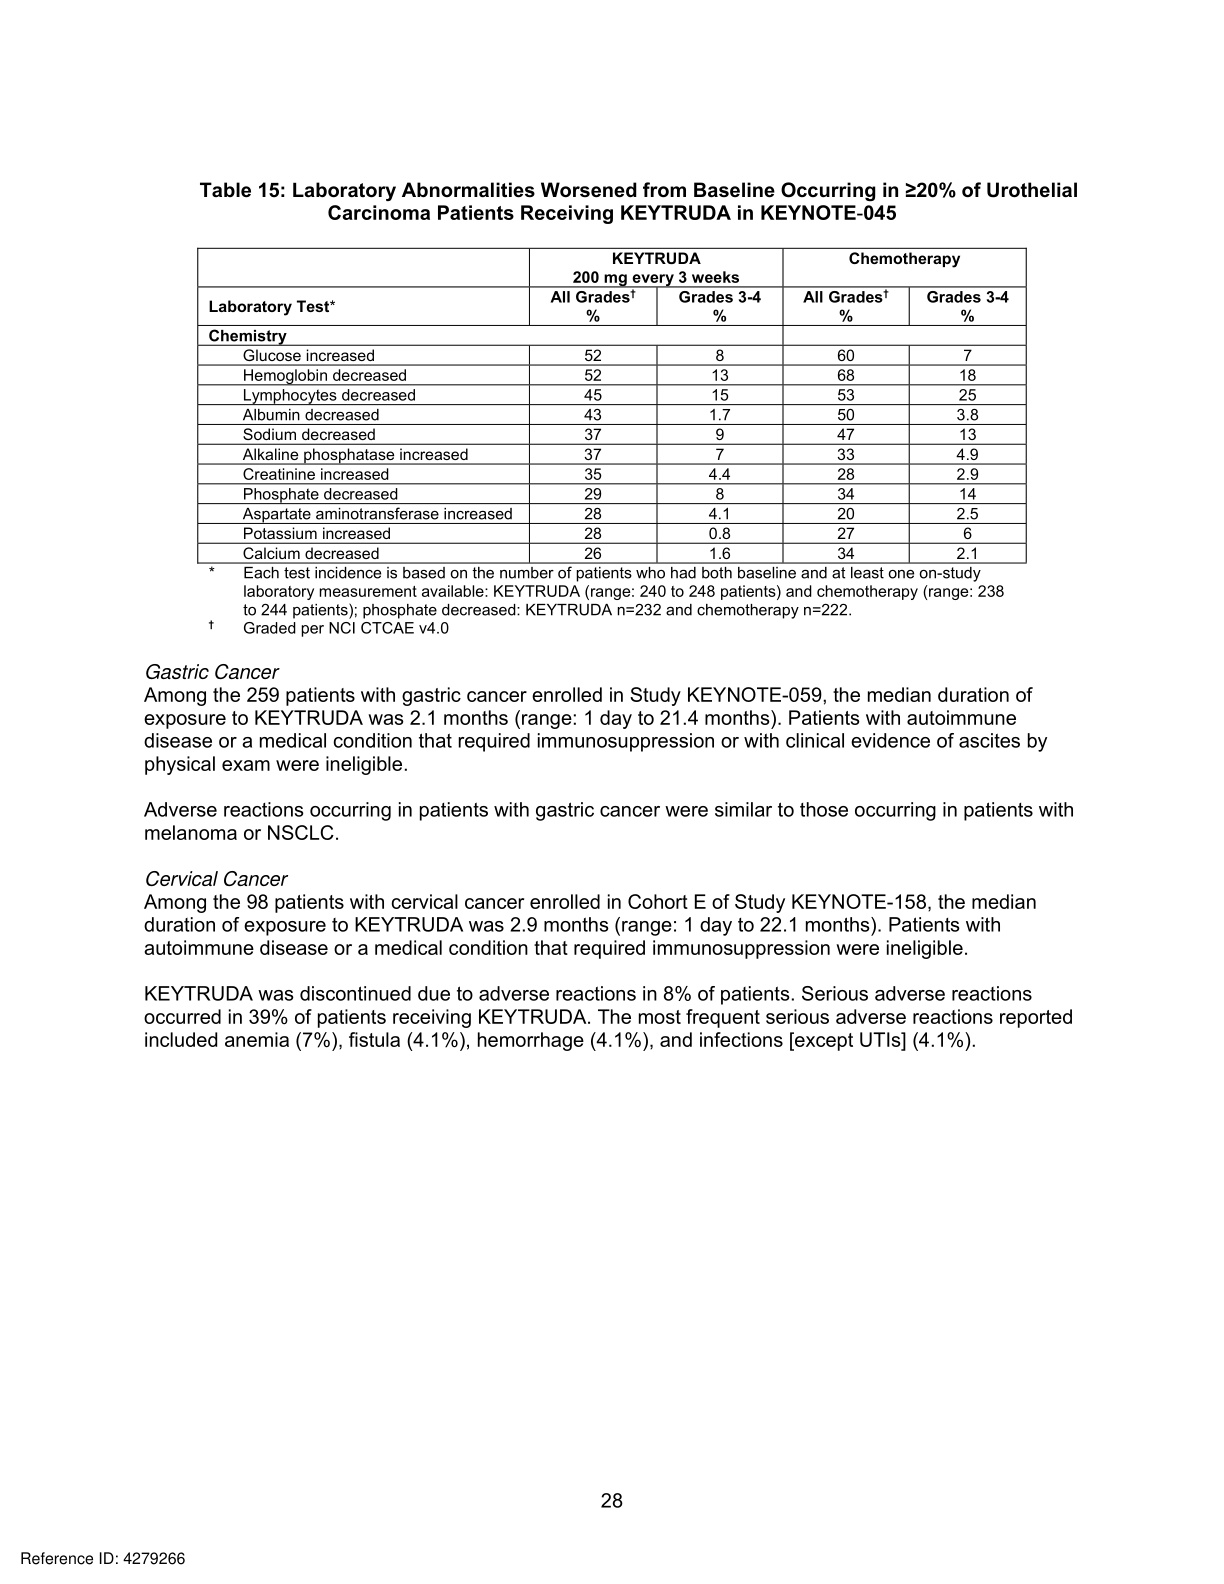merged_cells: (197, 247, 1029, 564)
